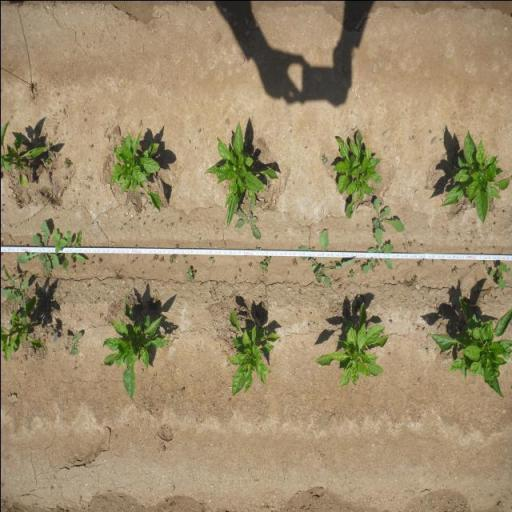plant: (426, 294, 512, 399), (202, 119, 281, 229), (97, 296, 172, 402), (312, 301, 390, 391), (438, 128, 508, 223), (223, 307, 280, 398), (106, 126, 164, 214), (329, 128, 384, 219), (0, 296, 47, 361), (0, 122, 46, 187)
weed: (296, 228, 355, 288), (15, 219, 59, 272), (361, 227, 396, 274), (56, 227, 88, 270), (0, 267, 30, 309), (234, 198, 261, 241), (371, 197, 404, 232), (488, 260, 510, 290), (62, 329, 83, 356), (49, 226, 69, 253), (51, 324, 62, 344), (185, 266, 196, 282), (257, 260, 267, 272), (62, 158, 72, 168), (168, 254, 177, 263), (409, 275, 418, 284), (450, 266, 460, 274), (372, 258, 380, 268), (320, 152, 327, 163), (43, 155, 51, 164), (263, 256, 271, 264), (44, 270, 52, 276), (152, 253, 158, 261), (291, 257, 297, 265), (265, 180, 270, 189), (354, 260, 361, 266), (481, 260, 488, 266), (349, 270, 354, 278), (158, 255, 164, 261), (416, 260, 422, 266), (207, 256, 214, 261), (407, 241, 412, 247), (98, 256, 102, 263), (254, 246, 260, 250)
